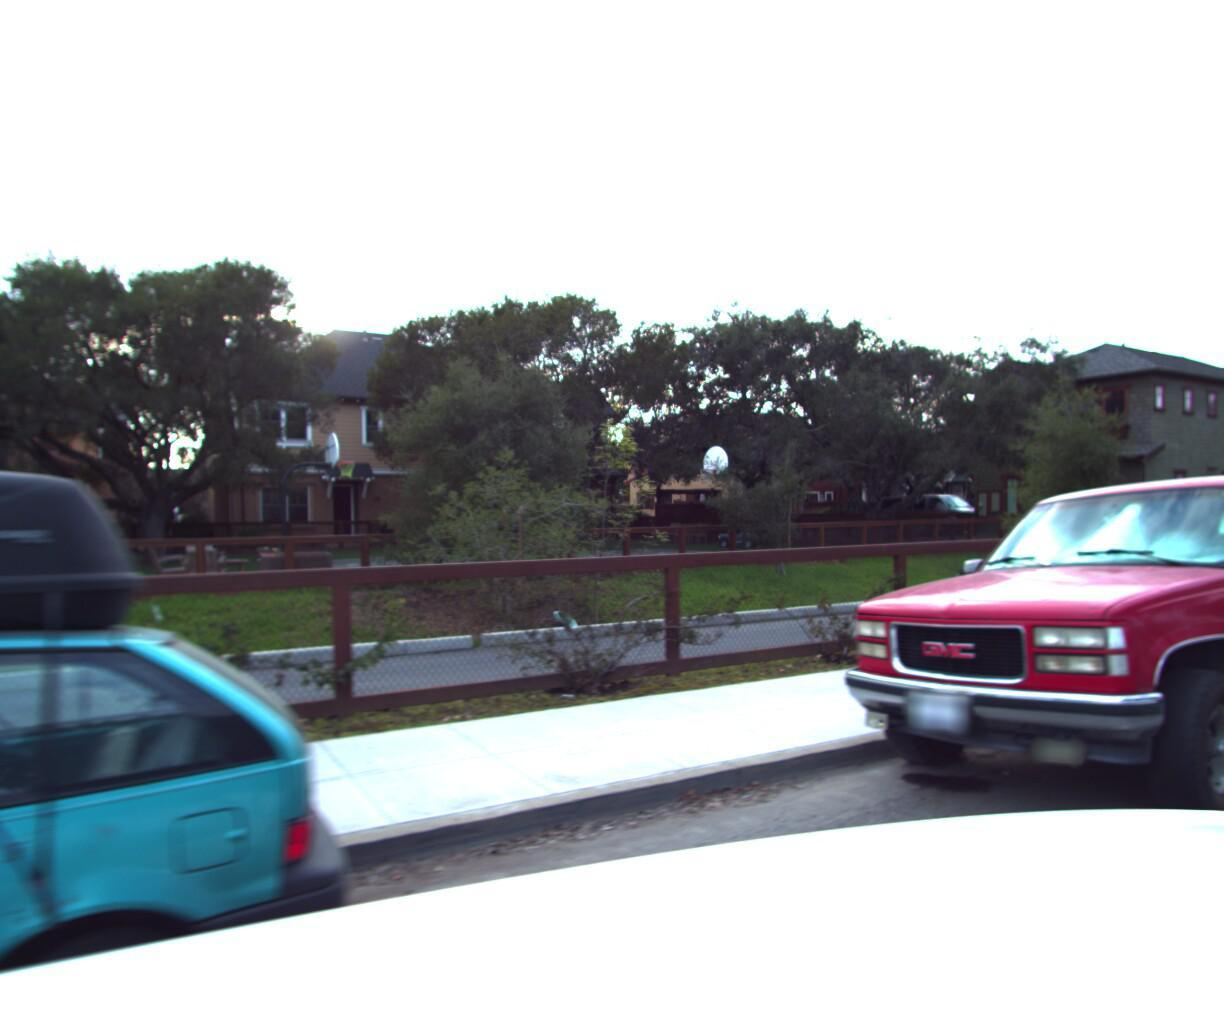car: (0, 305, 369, 1024), (795, 441, 1224, 898)
